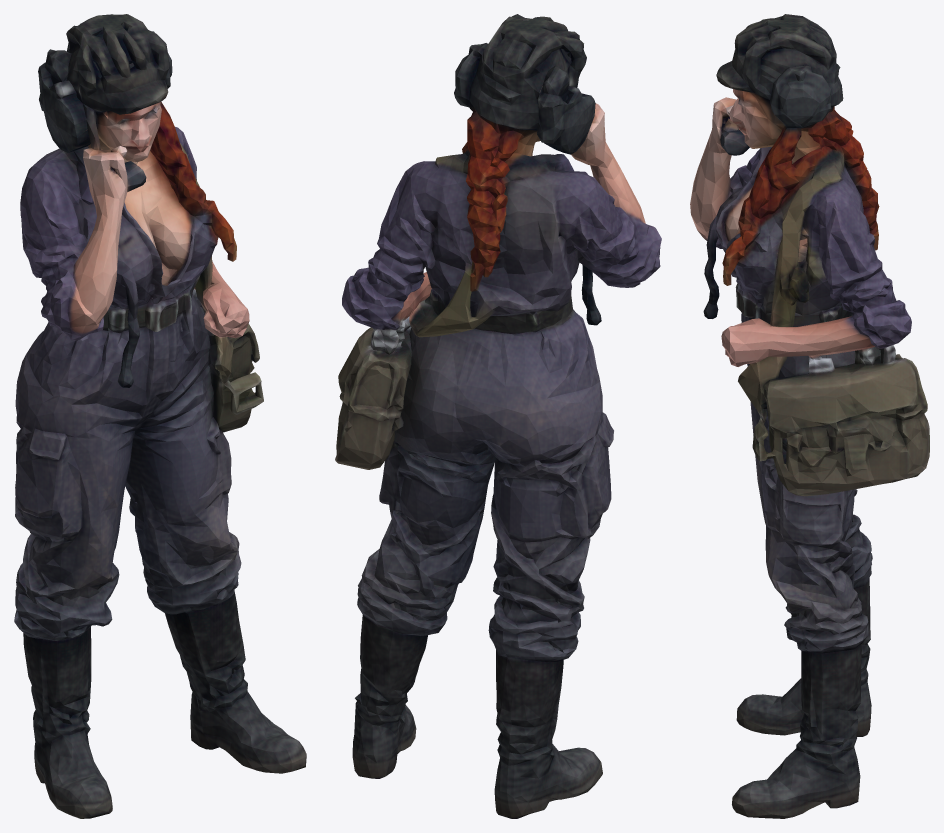
The model's file is crew_su_radio_4.obj.
3 views of the same model, side by side, from view 1: azimuth 30°, elevation 25°; view 2: azimuth 150°, elevation 25°; view 3: azimuth 270°, elevation 25° (orthographic). The views are drawn at different scales.
Parts seen in each view (by area): view 1: crew_su_radio_4; view 2: crew_su_radio_4; view 3: crew_su_radio_4.
Boxes of the visible parts, left/top/right/bottom form: crew_su_radio_4: left=14, top=14, right=306, bottom=818; crew_su_radio_4: left=335, top=14, right=661, bottom=818; crew_su_radio_4: left=690, top=14, right=929, bottom=818.
Size of the model in its own units: 0.624 by 1.68 by 0.5086.
Materials: 1 (1 with a texture image).
